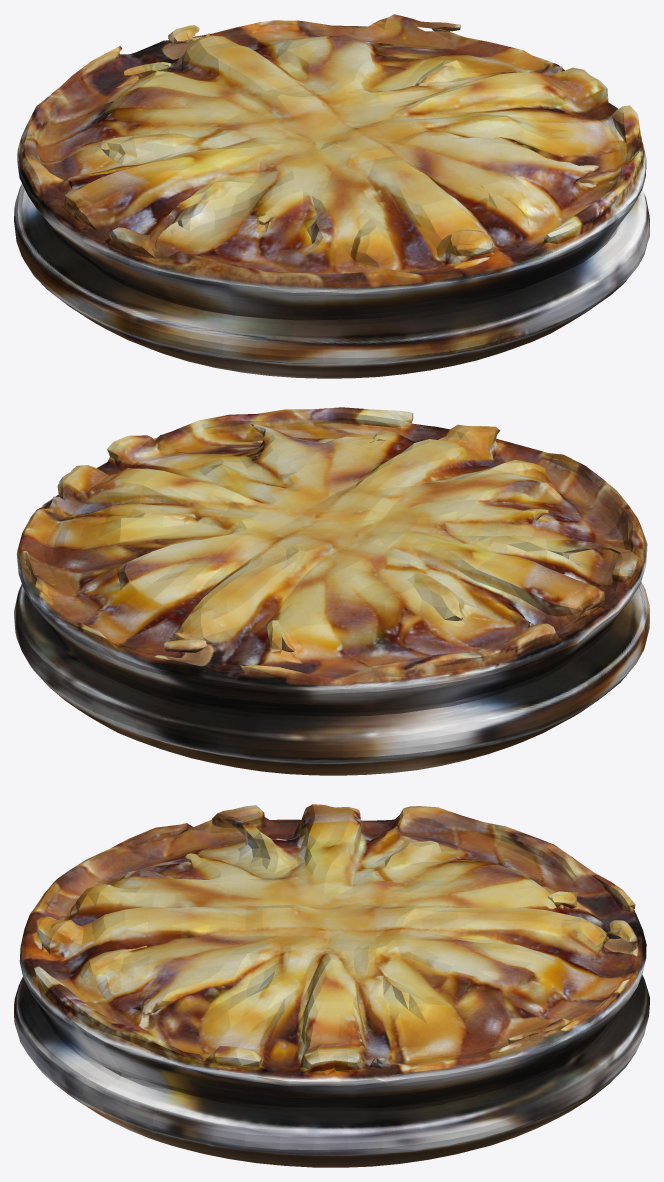
Rendered from pay.obj.
3 views of the same model, one above another, from view 1: azimuth 30°, elevation 25°; view 2: azimuth 150°, elevation 25°; view 3: azimuth 270°, elevation 25° (orthographic).
Visible parts, largest first — view 1: pay:Mesh; view 2: pay:Mesh; view 3: pay:Mesh.
Boxes of the visible parts, box(x1,y1,x2,y2) form: pay:Mesh: box(14, 14, 649, 378); pay:Mesh: box(14, 407, 649, 775); pay:Mesh: box(14, 804, 649, 1167).
Size of the model in its own units: 0.7426 by 0.2257 by 0.7506.
1 material, 1 textured.
